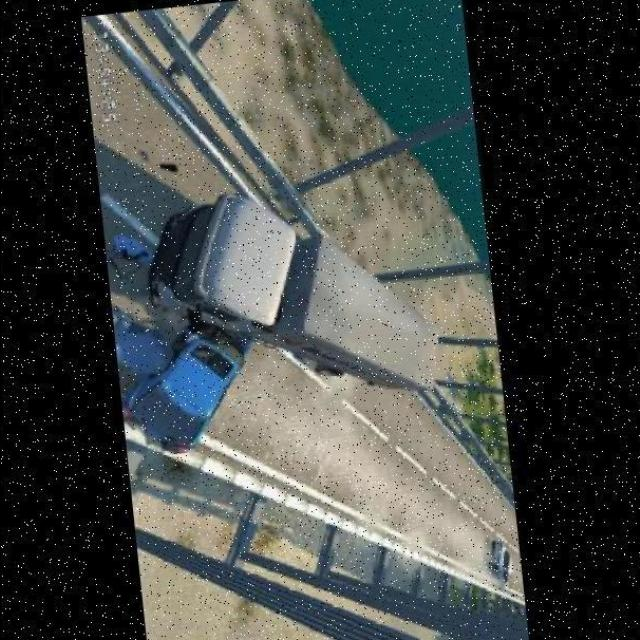accident: (103, 175, 353, 443)
